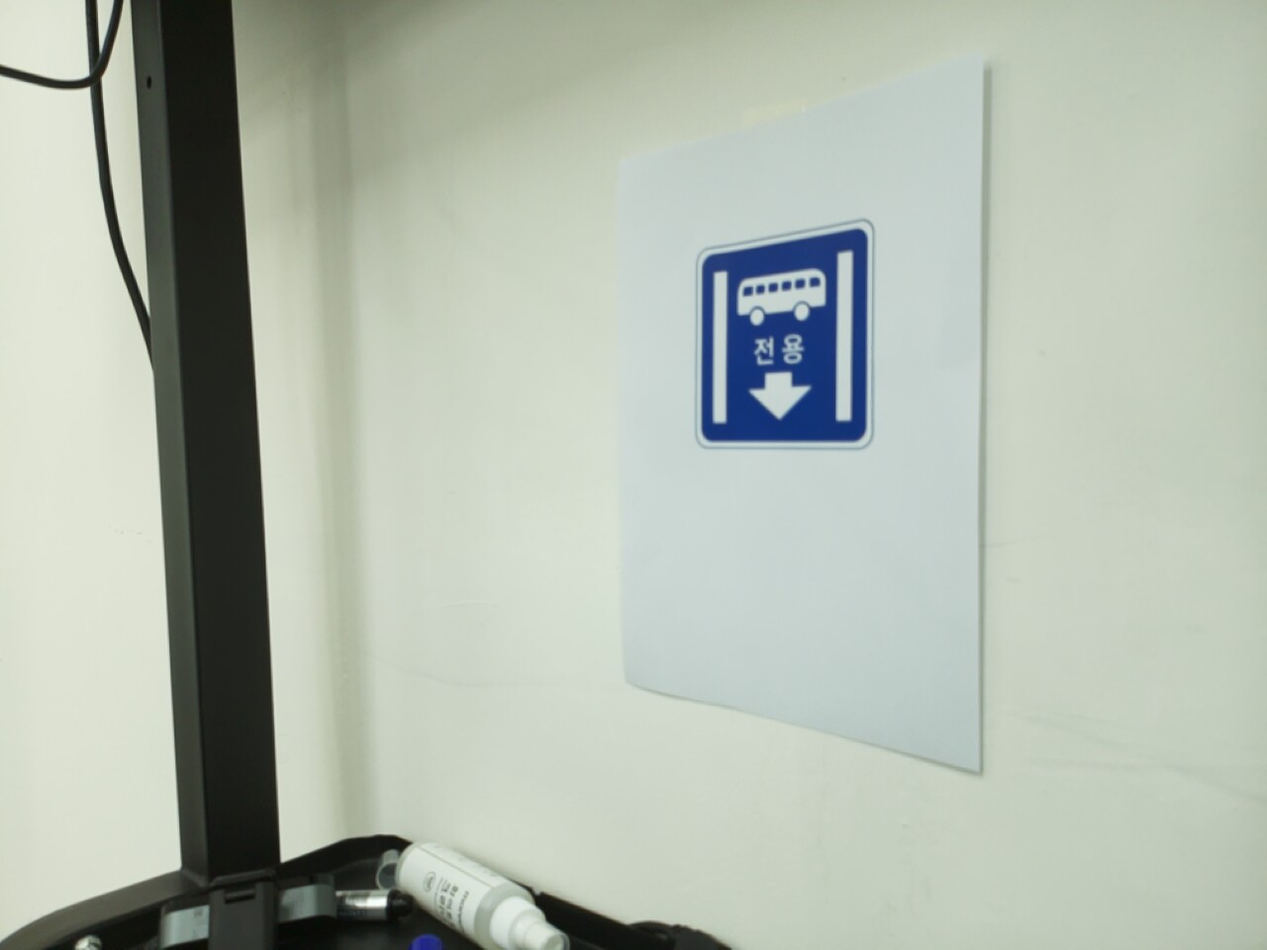bus_only_lane: (694, 221, 875, 450)
